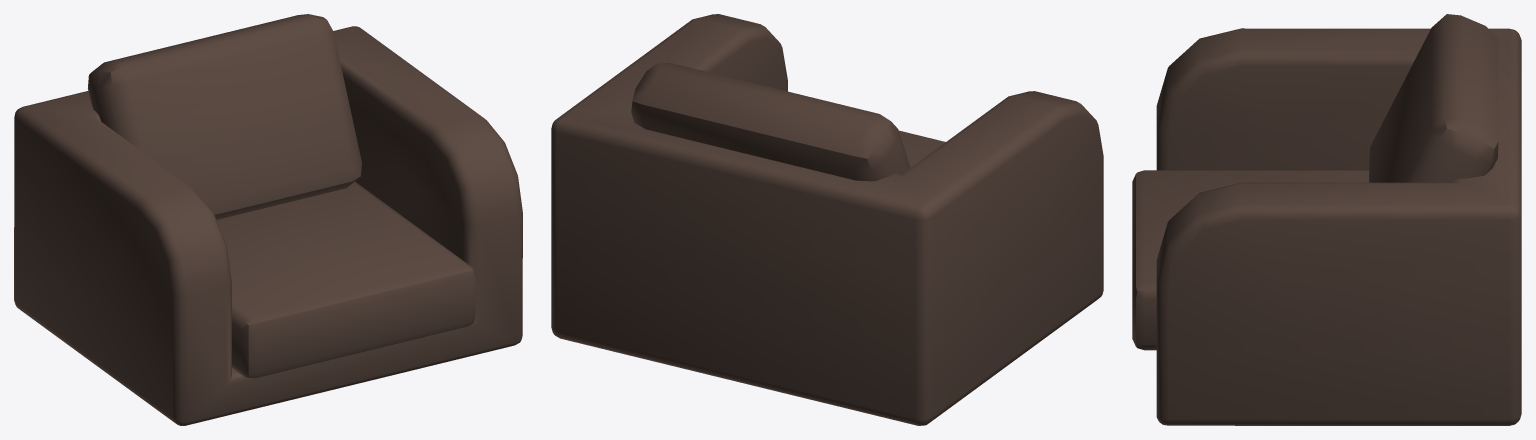
Rendered from armchair.obj.
3 views of the same model, side by side, from view 1: azimuth 30°, elevation 25°; view 2: azimuth 150°, elevation 25°; view 3: azimuth 270°, elevation 25° (orthographic). The views are drawn at different scales.
Parts seen in each view (by area): view 1: armchair_Plane.001; view 2: armchair_Plane.001; view 3: armchair_Plane.001.
Boxes of the visible parts, bbox=[...] form: armchair_Plane.001: bbox=[14, 14, 522, 425]; armchair_Plane.001: bbox=[551, 14, 1103, 425]; armchair_Plane.001: bbox=[1132, 14, 1521, 425].
Size of the model in its own units: 1.8 by 1.22 by 1.6.
1 material, 1 textured.
